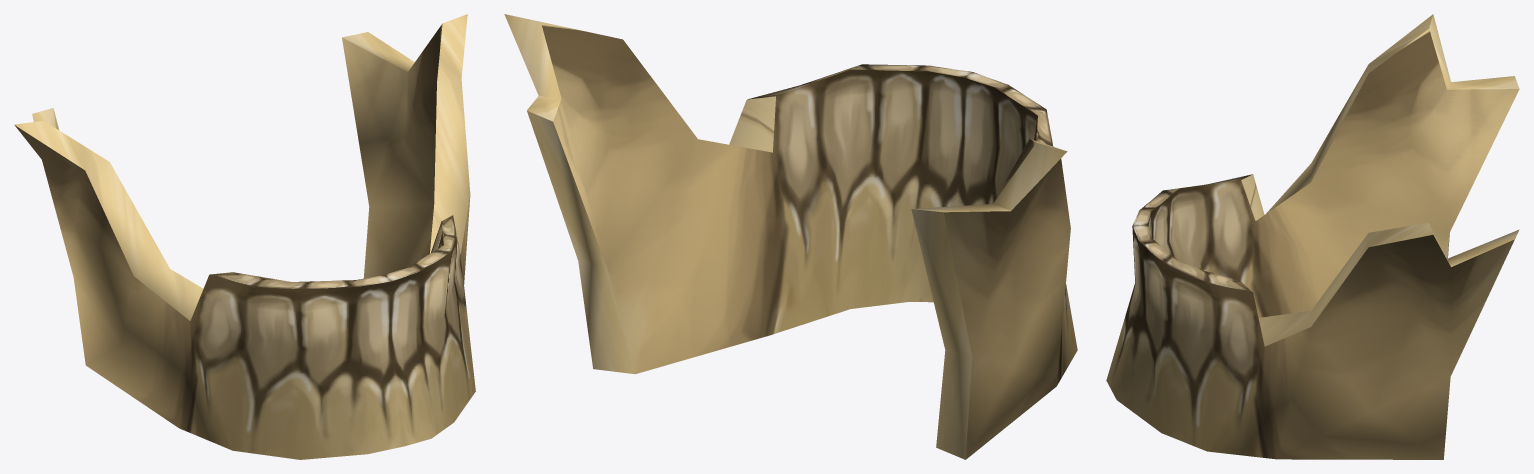
The model's file is SM_PROP_skeleton_skull_jaw_01.fbx.
3 views of the same model, side by side, from view 1: azimuth 30°, elevation 25°; view 2: azimuth 150°, elevation 25°; view 3: azimuth 270°, elevation 25° (orthographic). The views are drawn at different scales.
Parts seen in each view (by area): view 1: SM_PROP_skeleton_skull_jaw_01; view 2: SM_PROP_skeleton_skull_jaw_01; view 3: SM_PROP_skeleton_skull_jaw_01.
Boxes of the visible parts, x1,y1,x2,y2 form: SM_PROP_skeleton_skull_jaw_01: (14, 14, 475, 459); SM_PROP_skeleton_skull_jaw_01: (504, 14, 1077, 459); SM_PROP_skeleton_skull_jaw_01: (1106, 14, 1519, 459).
Bounding box in the file's own units: 55.32 × 32.64 × 43.76.
